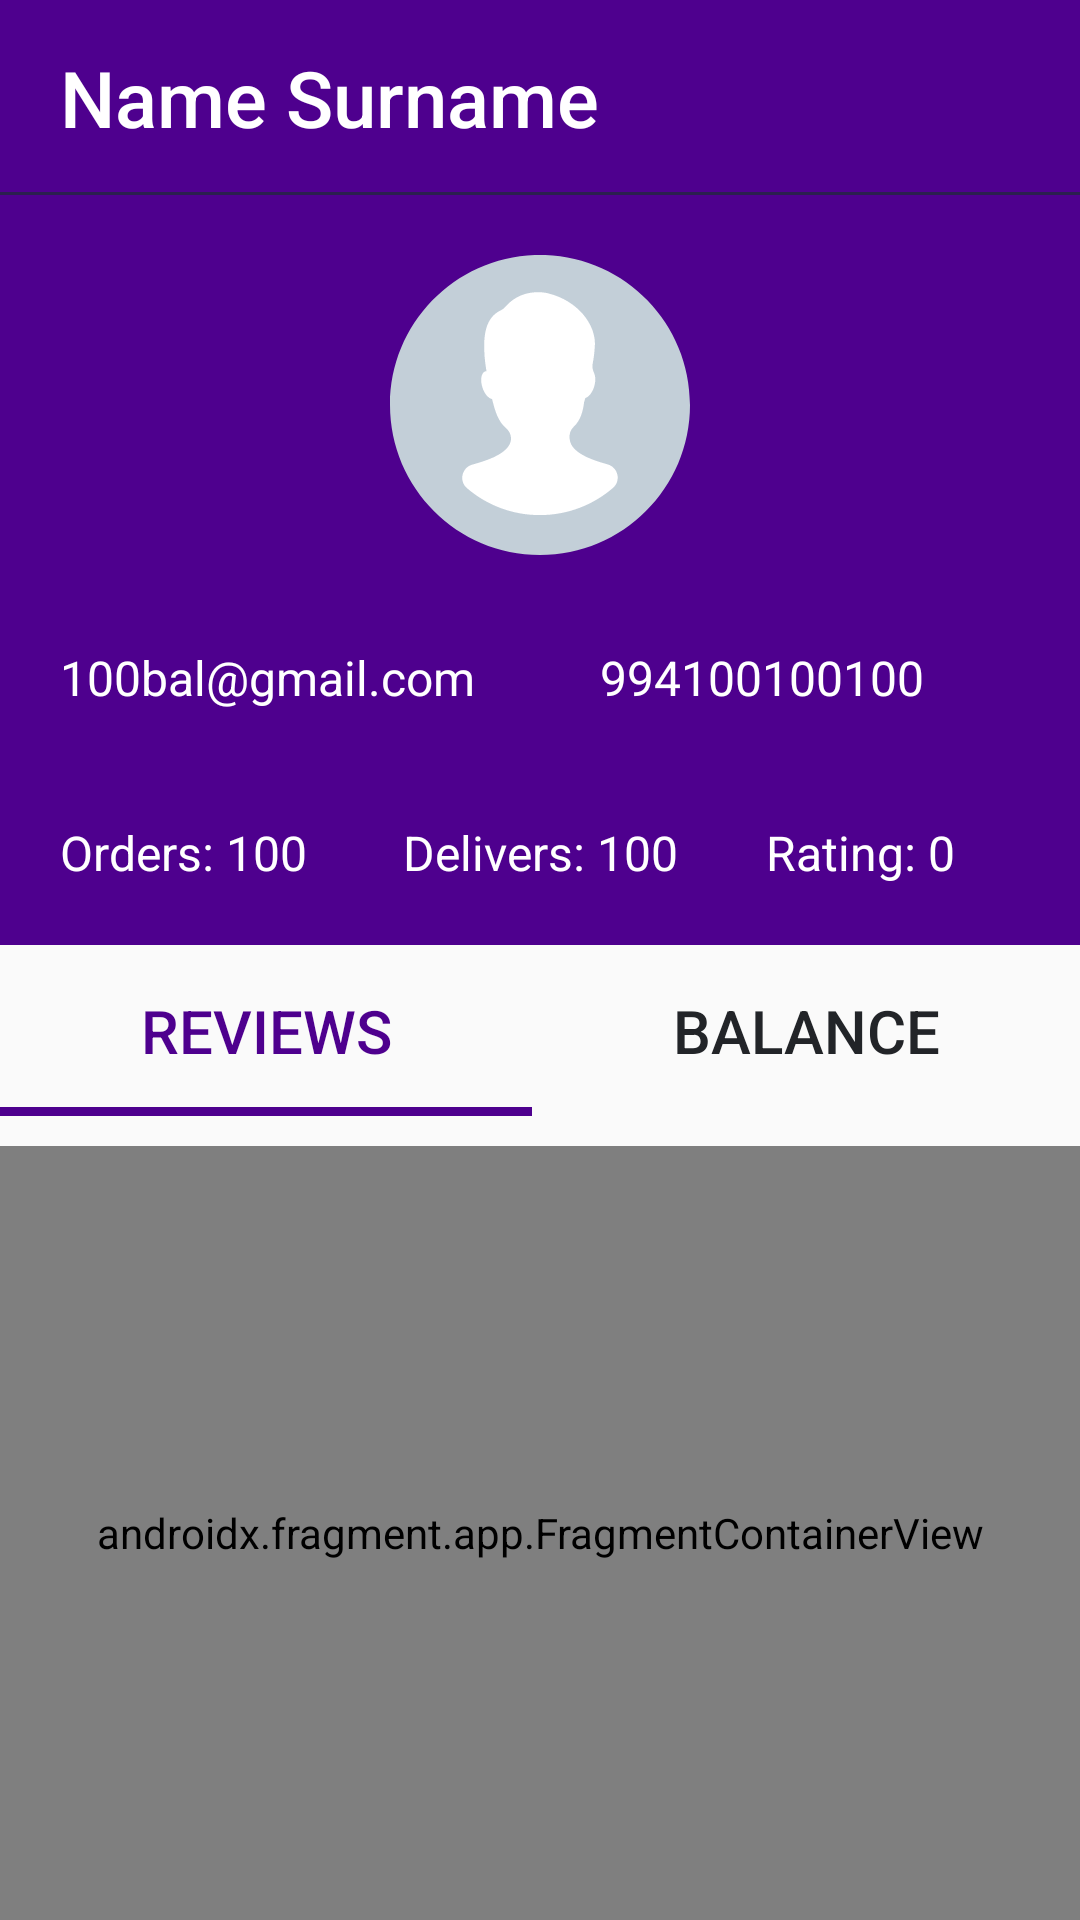

Named icons in this screenshot (1080x1920) and their bounding boxes, (x1, y1, x2, y2):
profile: (390, 255, 690, 555)
